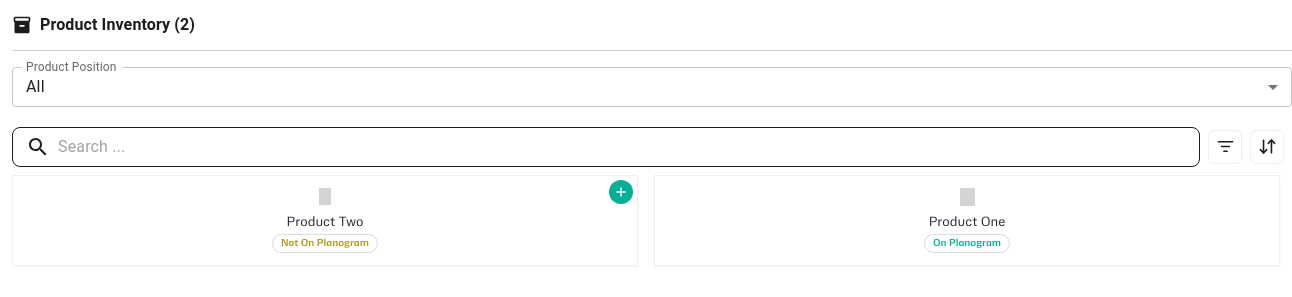
Test case: ProductInventory › filters products by On Planogram position
Press the mouse on the dropdown named "Product Position" at (35, 87), box [26,77,45,96]
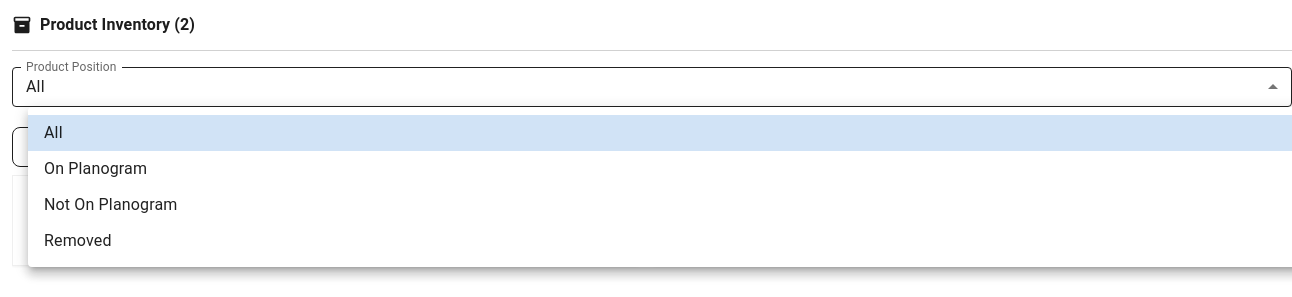
Click the option "On Planogram" at (96, 168), box [44,159,147,178]
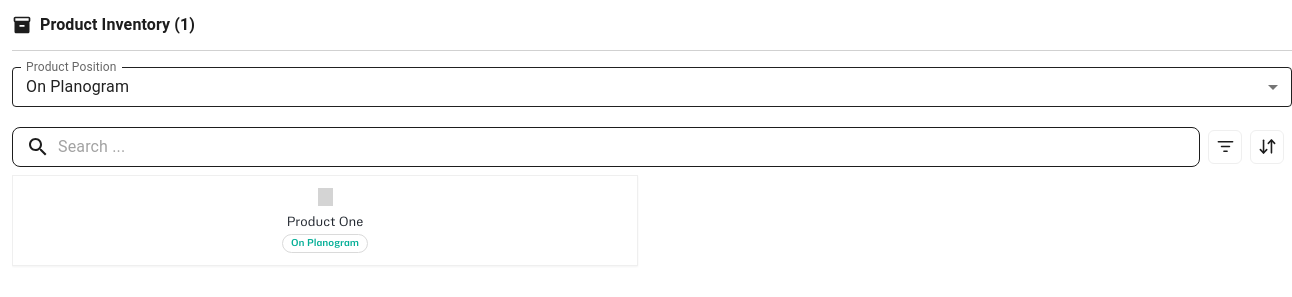
Expected: the text "Product One" is shown, [287,216,363,228]
Now the heading "Product Inventory (1)" is shown, box [40,12,195,38]
Now the button "Product Two" is gone
